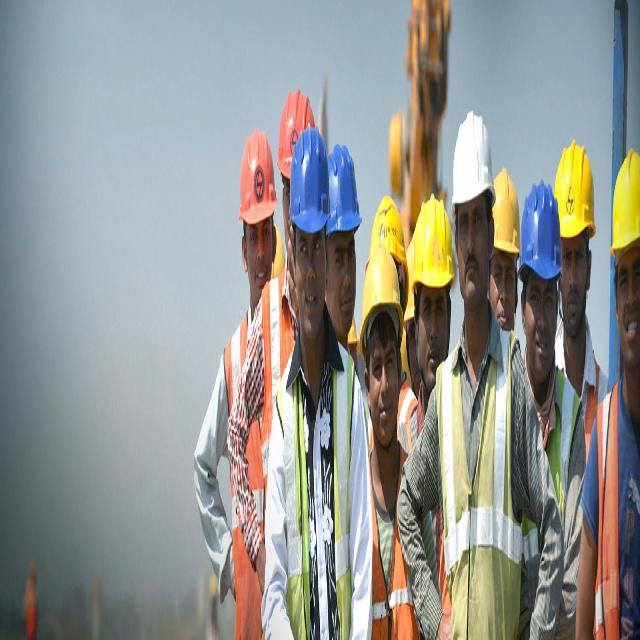Reflective-Jacket: (433, 328, 525, 640), (273, 342, 358, 640), (595, 374, 640, 638)
Safety-Helmet: (360, 190, 407, 326), (451, 102, 496, 215), (553, 132, 597, 245), (410, 186, 454, 296), (517, 179, 562, 283), (236, 120, 278, 228), (289, 121, 329, 231), (326, 138, 362, 243), (610, 141, 640, 266), (491, 162, 519, 255)
